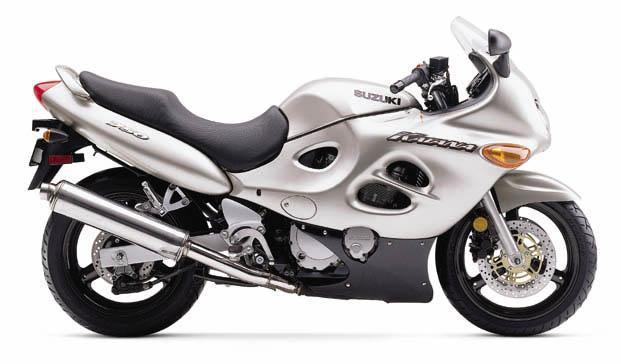Motorcycle: (13, 6, 620, 351)
